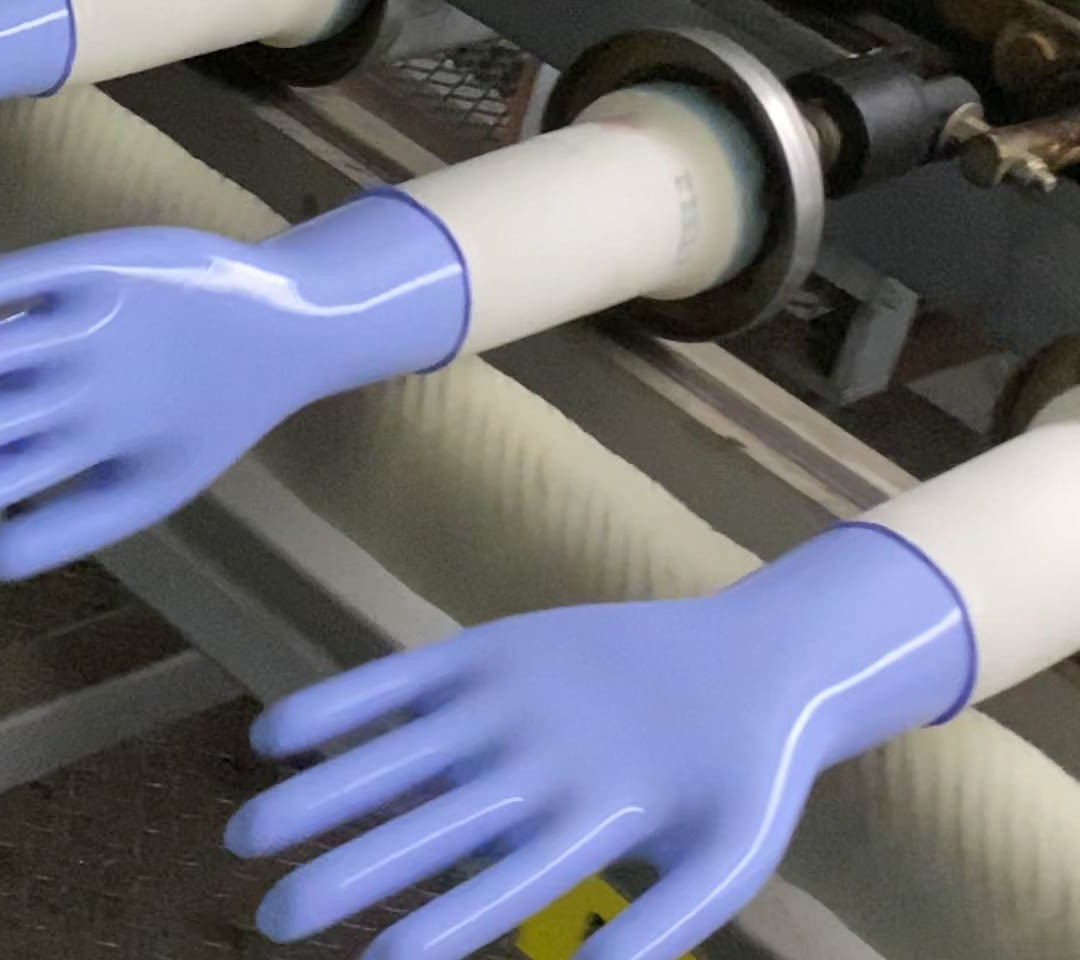glove: (223, 521, 976, 960), (1, 188, 471, 583)
